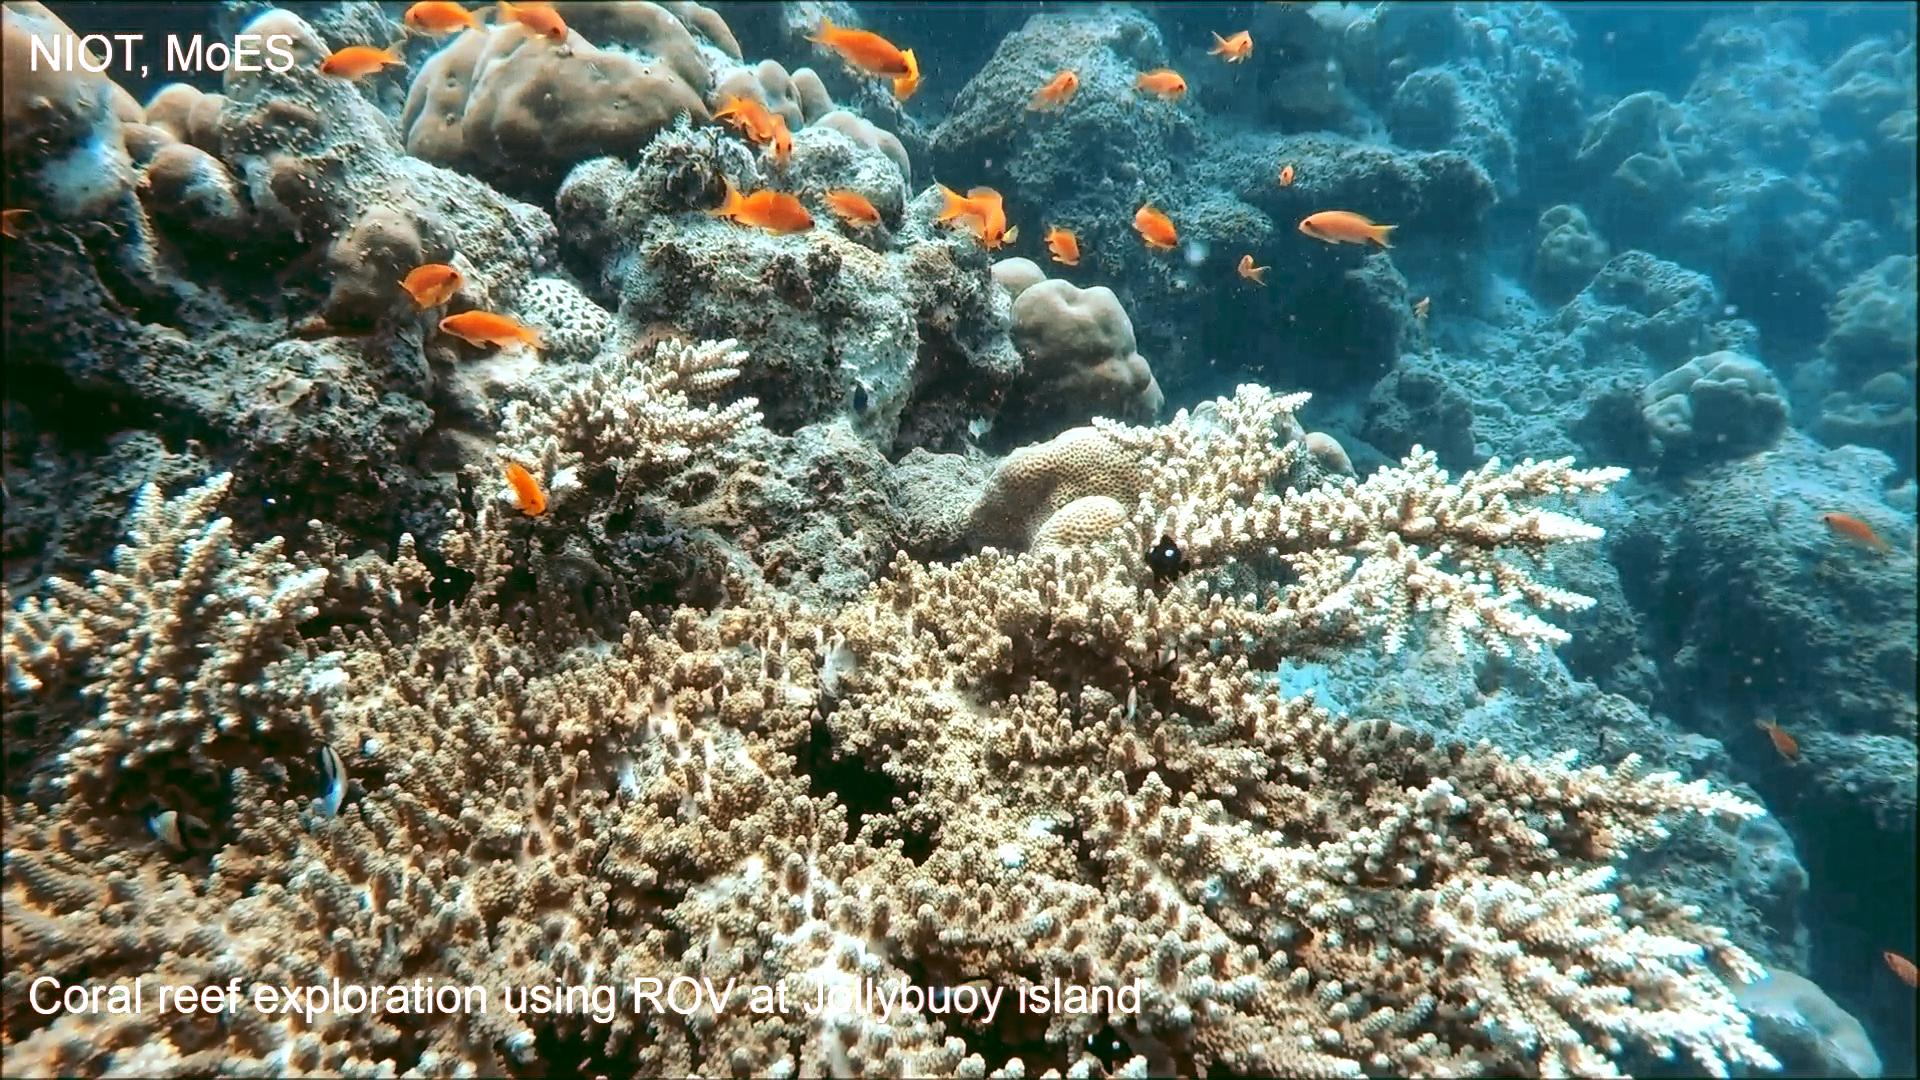Porites-Porites pukoensis: (392, 0, 770, 171), (0, 0, 111, 181)
